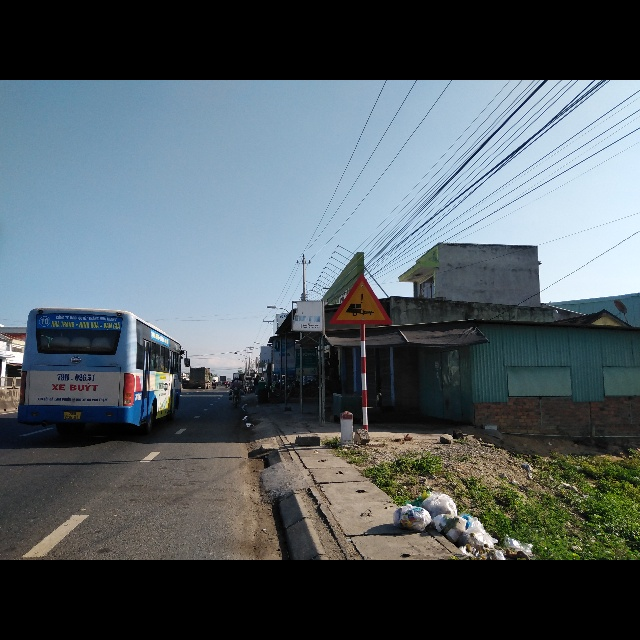Đoạn đường hay xảy ra tai nạn: (330, 274, 393, 327)
